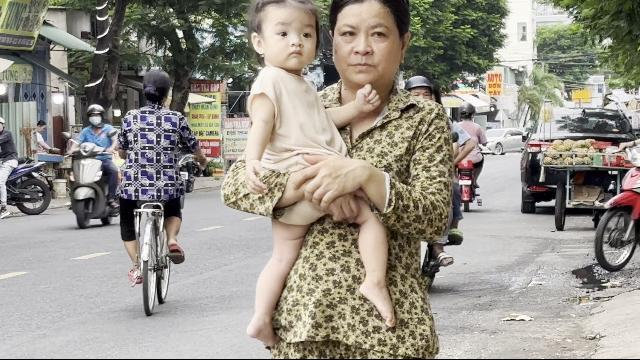helmet: (84, 103, 104, 127)
motorcyclist: (111, 64, 205, 327), (62, 103, 122, 229)
nohelmet: (140, 68, 172, 106)
